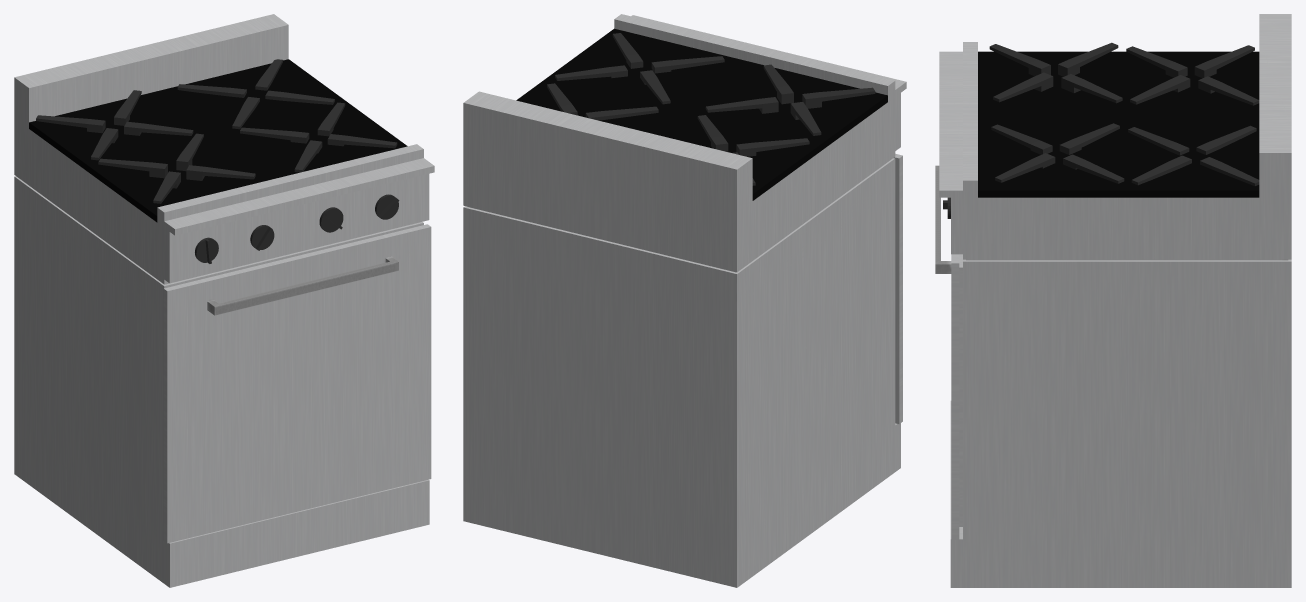
The model's file is CookingUnit.fbx.
3 renders of one model, left to right at view 1: azimuth 30°, elevation 25°; view 2: azimuth 150°, elevation 25°; view 3: azimuth 270°, elevation 25°, orthographic. The views are drawn at different scales.
Parts seen in each view (by area): view 1: Cube.022, Cube.031, Cube.033, Cube.023, Cube.027, Cube.035, Cube.037, Cube.029, Cube.024; view 2: Cube.022, Cube.034, Cube.032, Cube.025, Cube.036, Cube.038, Cube.026, Cube.033; view 3: Cube.022, Cube.031, Cube.033, Cube.034, Cube.023, Cube.032, Cube.025, Cube.027, Cube.028, Cube.035, Cube.036, Cube.037 (+5 smaller).
Part boxes in pixels (bbox=[...]): Cube.022: bbox=[14, 14, 434, 587]; Cube.031: bbox=[98, 158, 167, 178]; Cube.033: bbox=[186, 165, 255, 180]; Cube.023: bbox=[36, 115, 105, 133]; Cube.027: bbox=[124, 121, 193, 135]; Cube.035: bbox=[240, 127, 309, 143]; Cube.037: bbox=[327, 134, 397, 148]; Cube.029: bbox=[265, 90, 334, 104]; Cube.024: bbox=[177, 84, 246, 97]; Cube.022: bbox=[463, 14, 906, 587]; Cube.034: bbox=[705, 97, 778, 113]; Cube.032: bbox=[802, 87, 875, 108]; Cube.025: bbox=[736, 138, 809, 156]; Cube.036: bbox=[651, 56, 724, 73]; Cube.038: bbox=[555, 65, 627, 80]; Cube.026: bbox=[585, 106, 658, 120]; Cube.033: bbox=[763, 64, 793, 104]; Cube.022: bbox=[935, 14, 1291, 587]; Cube.031: bbox=[1058, 42, 1118, 76]; Cube.033: bbox=[993, 72, 1053, 102]; Cube.034: bbox=[1061, 74, 1122, 103]; Cube.023: bbox=[1194, 45, 1254, 78]; Cube.032: bbox=[989, 44, 1050, 76]; Cube.025: bbox=[1126, 46, 1187, 77]; Cube.027: bbox=[1130, 75, 1190, 104]; Cube.028: bbox=[1198, 76, 1259, 105]; Cube.035: bbox=[1059, 123, 1119, 154]; Cube.036: bbox=[991, 124, 1052, 154]; Cube.037: bbox=[995, 153, 1055, 182].
Size of the model in its own units: 110 by 159 by 118.
